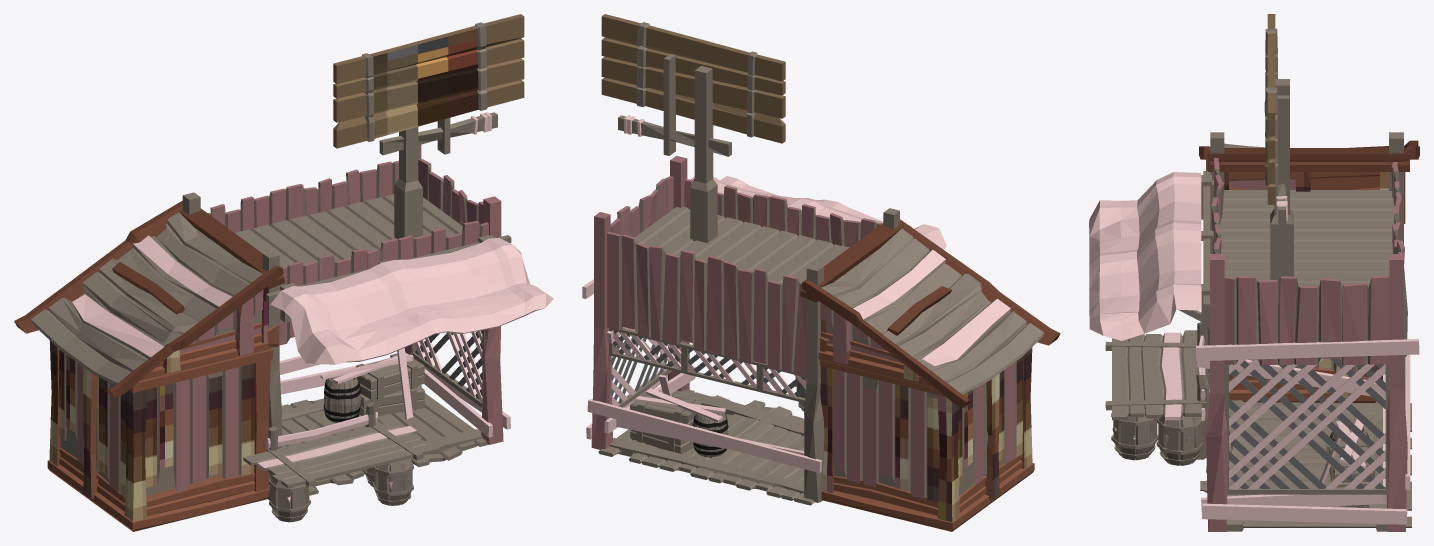
Rendered from SM_Bld_Shop_02.glb.
3 views of the same model, side by side, from view 1: azimuth 30°, elevation 25°; view 2: azimuth 150°, elevation 25°; view 3: azimuth 270°, elevation 25° (orthographic). The views are drawn at different scales.
Parts seen in each view (by area): view 1: SM_Bld_Shop_02_00; view 2: SM_Bld_Shop_02_00; view 3: SM_Bld_Shop_02_00.
Boxes of the visible parts, bbox=[...] form: SM_Bld_Shop_02_00: bbox=[14, 14, 553, 531]; SM_Bld_Shop_02_00: bbox=[582, 14, 1060, 531]; SM_Bld_Shop_02_00: bbox=[1089, 14, 1419, 531].
Size of the model in its own units: 7.86 by 6.83 by 4.51.
1 material, 1 textured.
